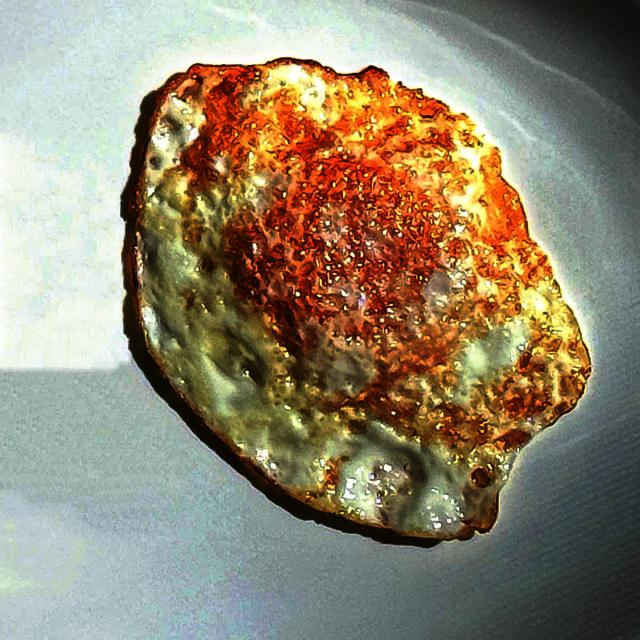fried_eggs: (133, 58, 590, 540)
